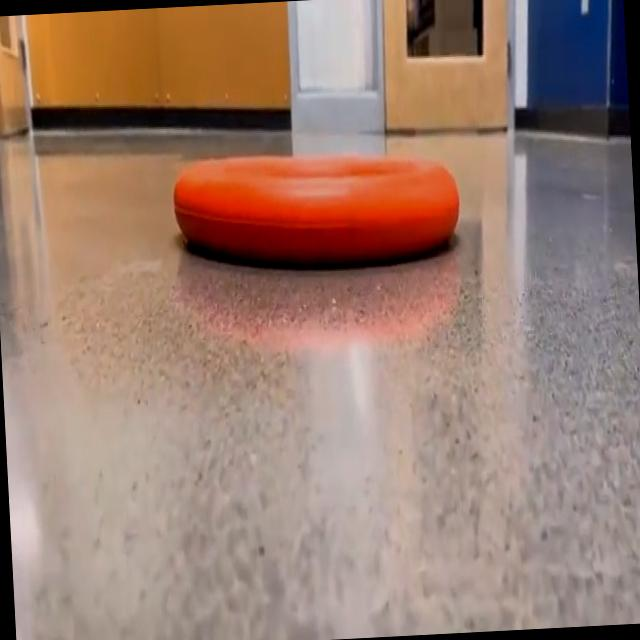note: (174, 156, 459, 265)
